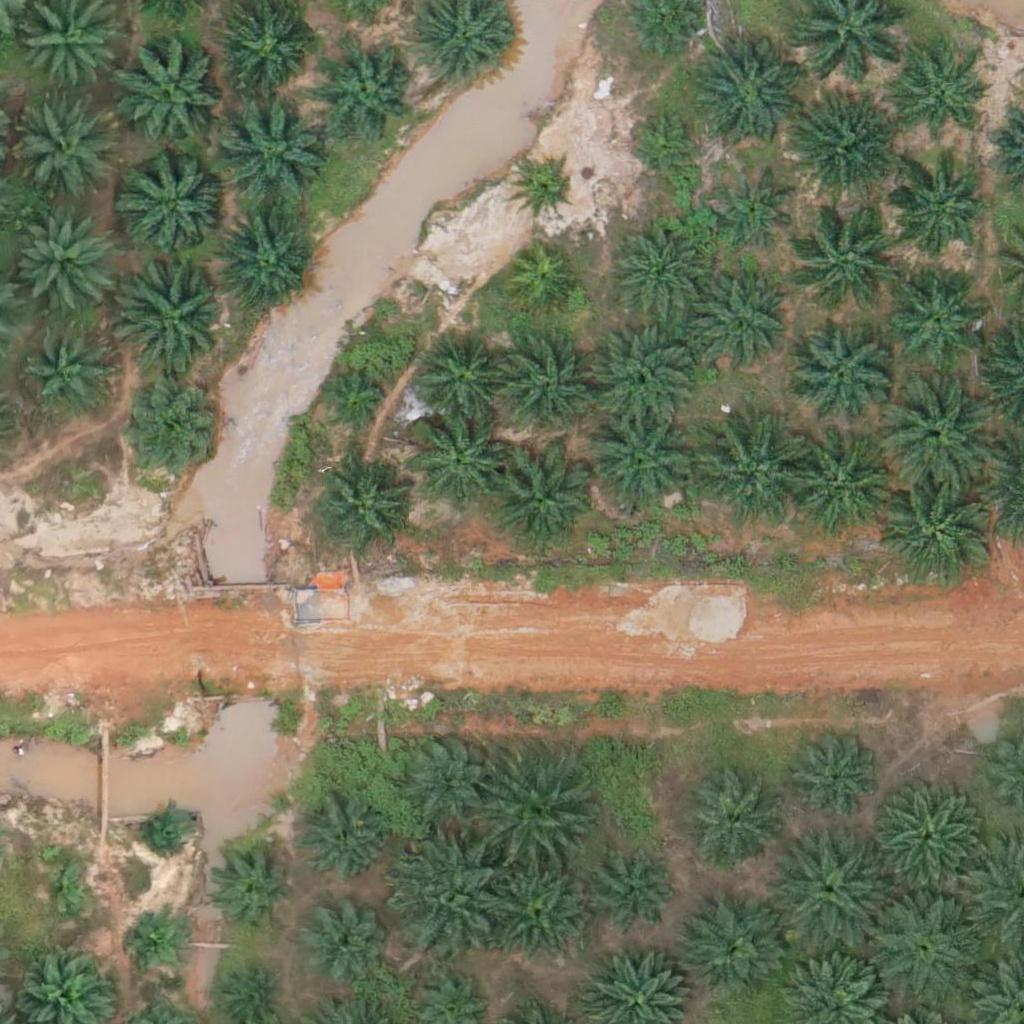Kelapa_Sawit: (867, 783, 980, 896), (881, 477, 994, 590), (688, 40, 801, 153), (586, 318, 699, 431), (583, 406, 696, 519), (485, 445, 598, 558), (214, 91, 327, 204), (115, 35, 228, 148), (119, 146, 232, 259), (866, 889, 978, 1003), (793, 198, 905, 312), (691, 415, 803, 529), (779, 832, 891, 945), (481, 761, 593, 874), (391, 840, 503, 953), (880, 377, 992, 490), (781, 434, 893, 547), (784, 95, 896, 208), (118, 258, 230, 371), (785, 726, 885, 827), (680, 899, 780, 1000), (487, 859, 587, 960), (393, 726, 493, 827), (886, 161, 986, 262), (788, 323, 888, 424), (688, 274, 788, 375), (496, 340, 596, 441), (411, 331, 511, 432), (213, 212, 313, 313), (313, 457, 413, 558), (121, 385, 221, 486), (13, 104, 113, 205), (9, 212, 109, 313), (684, 776, 784, 876), (886, 265, 986, 365), (611, 222, 711, 322), (406, 411, 506, 511), (319, 42, 419, 142), (711, 168, 799, 256), (224, 9, 312, 97), (299, 797, 386, 886), (593, 850, 680, 938), (299, 896, 386, 984), (209, 844, 296, 932), (898, 57, 985, 145), (27, 330, 114, 418), (628, 107, 703, 182), (504, 245, 579, 320), (319, 369, 394, 444), (513, 158, 576, 221), (131, 913, 181, 964), (138, 803, 188, 853), (229, 972, 279, 1022), (41, 866, 91, 916)
